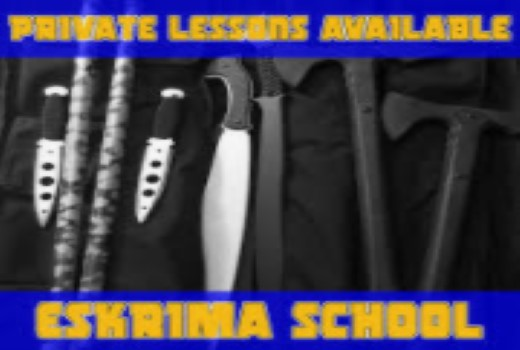baston_e: (72, 57, 144, 295), (41, 46, 101, 288)
